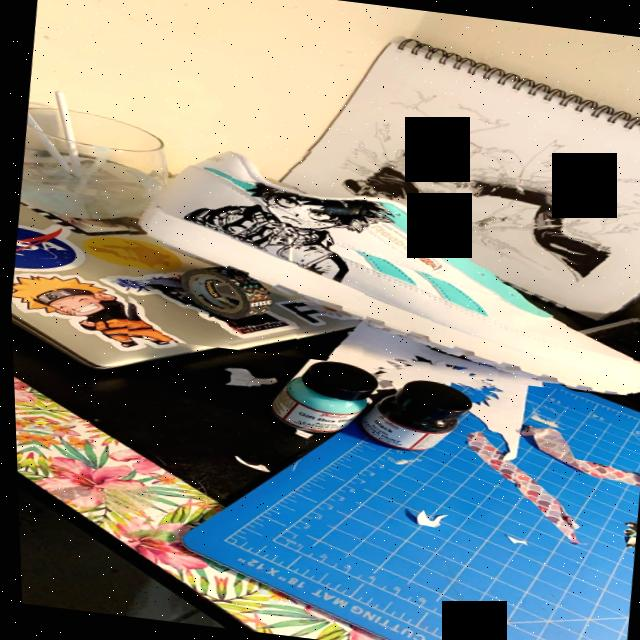shoe: (104, 126, 640, 399)
